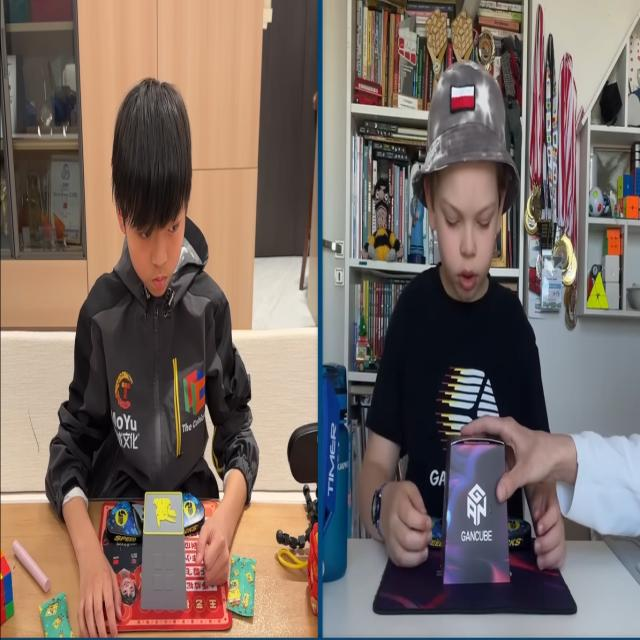Cubo-No-resuelto: (0, 551, 14, 624)
